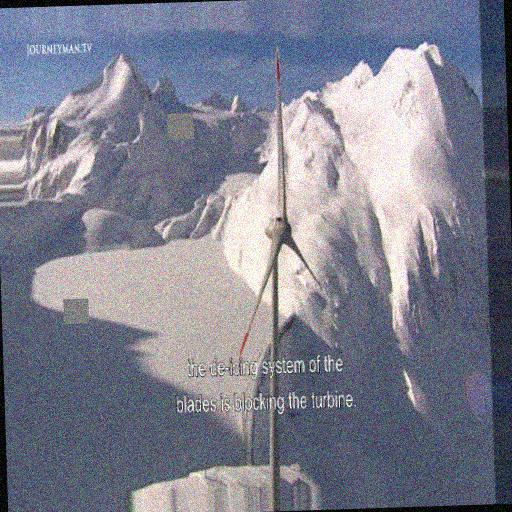wind turbine: (234, 44, 323, 508)
